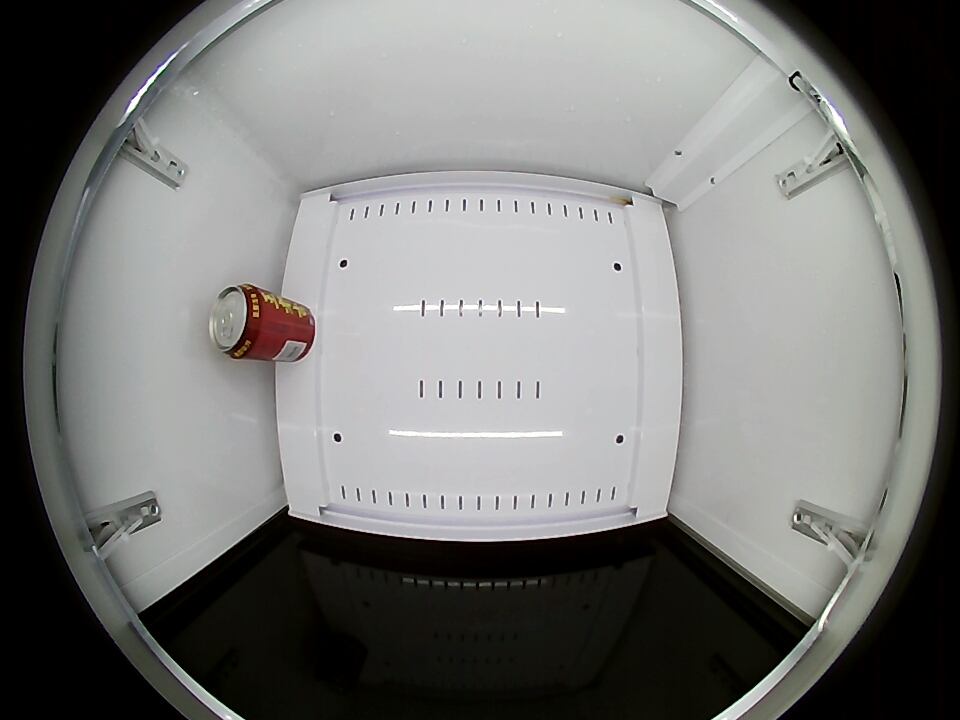wanglaoji-c: (209, 283, 271, 360)
